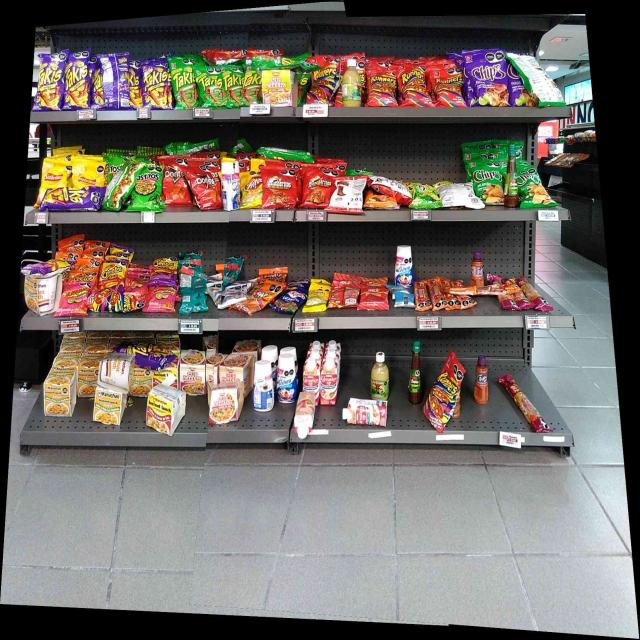bitzEnchilado90: (359, 282, 387, 310)
bitzEnchilado95: (415, 276, 443, 310), (449, 287, 520, 293)
bitzHabanero: (498, 373, 550, 431), (521, 276, 550, 311), (501, 296, 520, 310)
bokadosCacahuates: (278, 290, 303, 314)
cheetosFlaminHot: (25, 259, 68, 275), (153, 258, 176, 284), (102, 260, 124, 286)
chipsFuego: (465, 50, 509, 106), (511, 70, 523, 106)
chipsJalapeno: (477, 160, 502, 206), (519, 168, 540, 208)
chipsPapatinas: (408, 182, 436, 210)
churrumais: (61, 284, 86, 316), (149, 286, 175, 313)
delPrimoSalsa: (341, 58, 361, 107), (370, 352, 388, 398)
doritosNacho: (190, 165, 213, 210), (165, 168, 185, 207)
fritosLimon: (241, 172, 260, 207)
hotNutsOriginal: (367, 195, 398, 210)
leoCacahuates: (224, 286, 246, 300), (208, 282, 221, 305)
leoMix: (248, 280, 271, 310)
maruchanPollo: (46, 369, 72, 416), (24, 277, 53, 315), (96, 387, 120, 425)
maruchanRes: (149, 392, 172, 434)
nestleCarnation: (342, 399, 387, 426), (297, 392, 314, 437), (321, 362, 336, 406), (304, 362, 319, 391)
nestleLechera: (253, 361, 273, 411), (277, 355, 295, 402), (394, 245, 412, 286), (221, 163, 231, 208), (233, 163, 240, 208)
nissinCamaron: (262, 71, 295, 103)
nissinRes: (210, 383, 240, 422), (180, 350, 206, 392)
productoAtras: (524, 52, 552, 107), (180, 266, 205, 314), (105, 55, 126, 109), (332, 178, 364, 213), (259, 146, 314, 164), (439, 183, 475, 210), (332, 271, 357, 308), (108, 174, 132, 211), (371, 175, 405, 195), (395, 290, 414, 307)
rancheritos: (262, 166, 296, 208), (303, 170, 331, 208)
runners: (431, 368, 457, 424), (366, 64, 396, 108), (89, 288, 144, 312), (398, 66, 427, 107), (431, 71, 462, 107), (311, 70, 336, 106)
sabritasOriginal: (71, 159, 103, 187), (43, 160, 68, 185)
salsaBufalo: (504, 143, 518, 206), (409, 339, 422, 404)
semillasCalabaza: (307, 280, 326, 312)
tajinDulce: (474, 355, 490, 405), (469, 252, 484, 284)
takisFuego: (121, 341, 174, 367), (66, 54, 90, 110), (40, 54, 62, 111), (143, 60, 169, 108), (45, 190, 101, 211), (128, 59, 142, 108), (92, 74, 102, 110)
takisOriginal: (170, 58, 192, 111), (196, 67, 222, 108), (225, 66, 242, 108), (244, 68, 258, 104)
tostitos: (136, 173, 161, 211)
